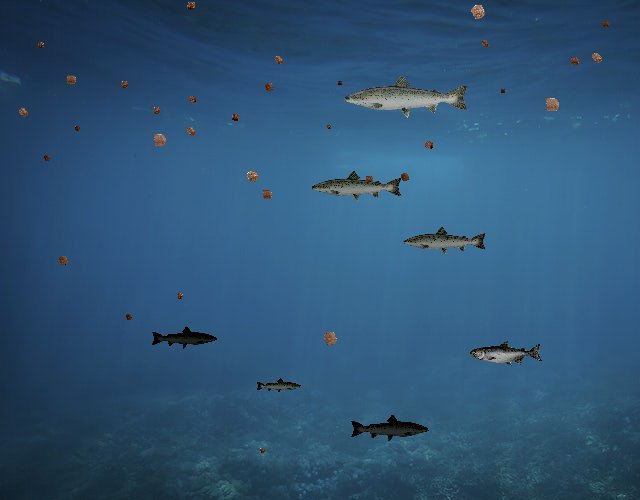Fish: (342, 73, 471, 119), (310, 170, 404, 204), (402, 225, 488, 256), (350, 413, 431, 443), (471, 341, 544, 367), (150, 325, 218, 350), (255, 378, 302, 395)
Pellet: (240, 164, 265, 189), (172, 289, 187, 304), (122, 310, 136, 324), (34, 38, 48, 52), (256, 445, 268, 457)
